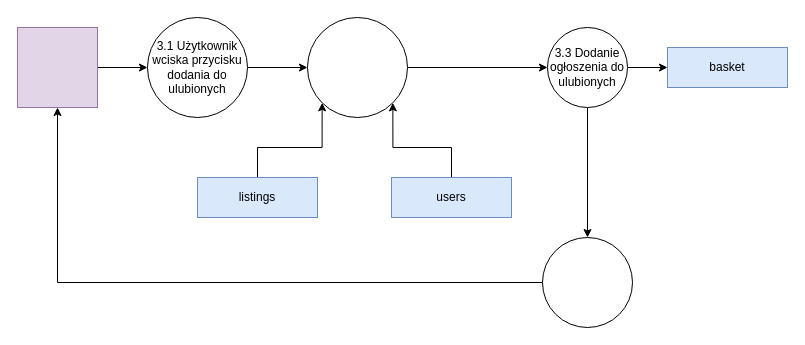
The diagram is 805 pixels wide and 345 high, and some of its shapes have lost their labels. Each missing label, with the centre of its shape:
3.2 Wysłanie żądania o dodanie ogłoszenia do ulubionych: [357,67]
3.4 Wysłanie komunikatu o rezultacie operacji: [587,282]
Użytkownik: [57,67]
